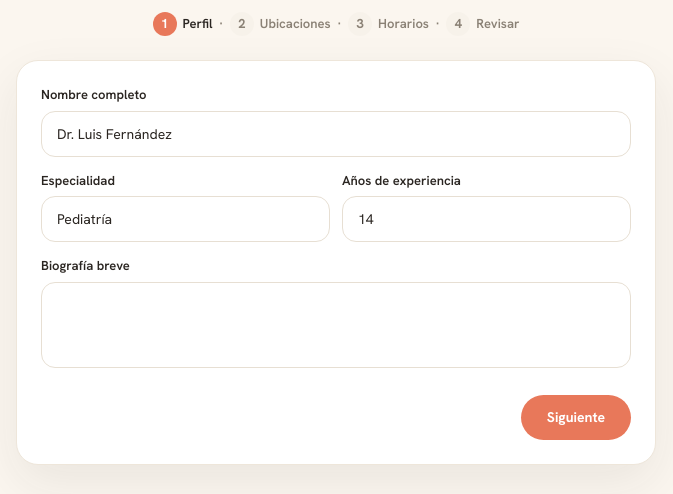
it: OnboardingWizard › returns to the previous step with Atrás
Click the button "Siguiente": {"x": 576, "y": 417} [521,394,631,440]
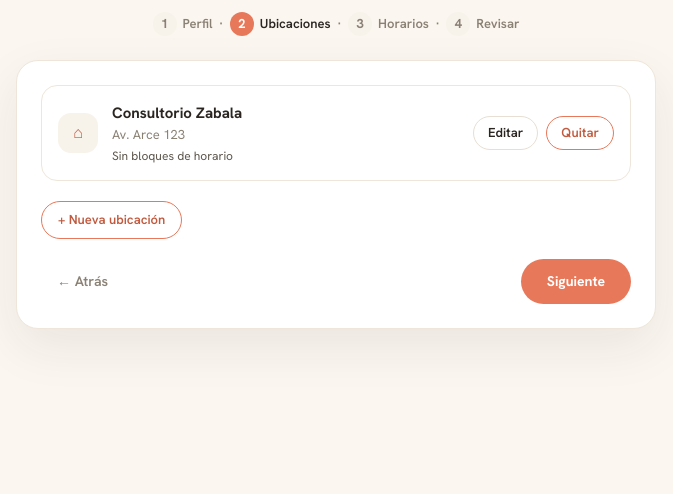
Click the button "← Atrás": {"x": 83, "y": 281} [41,260,124,302]
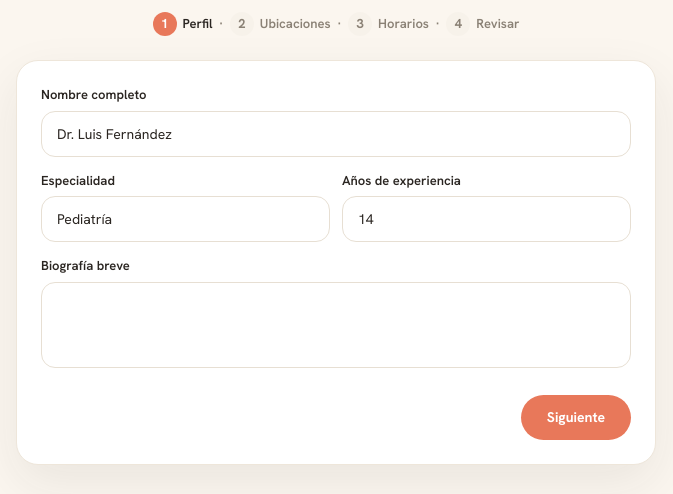
Expected: the field labelled "Nombre completo" is shown, [41,110,631,156]
